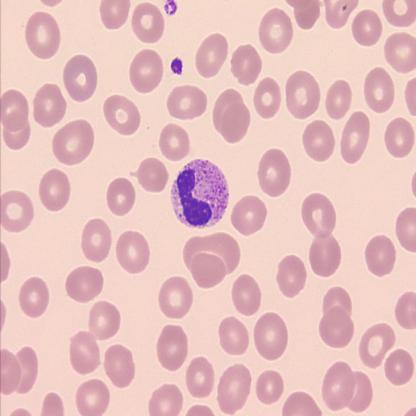Band Neutrophil: (168, 154, 232, 233)
